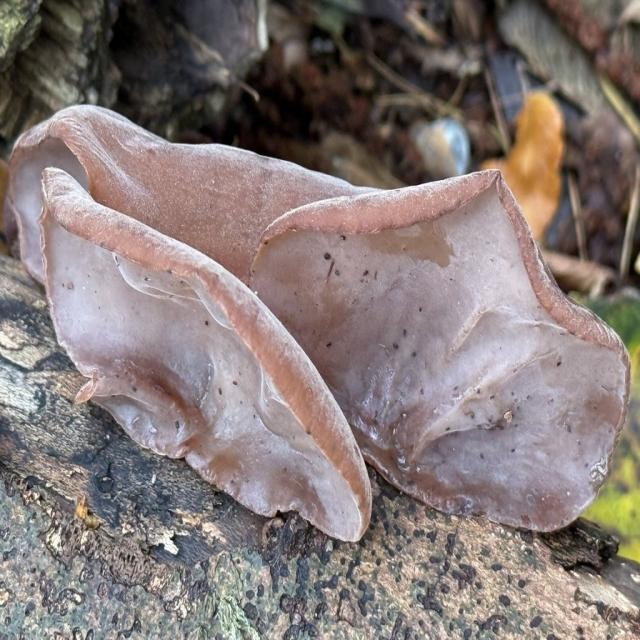Matang: (4, 102, 636, 536), (36, 164, 376, 550)
